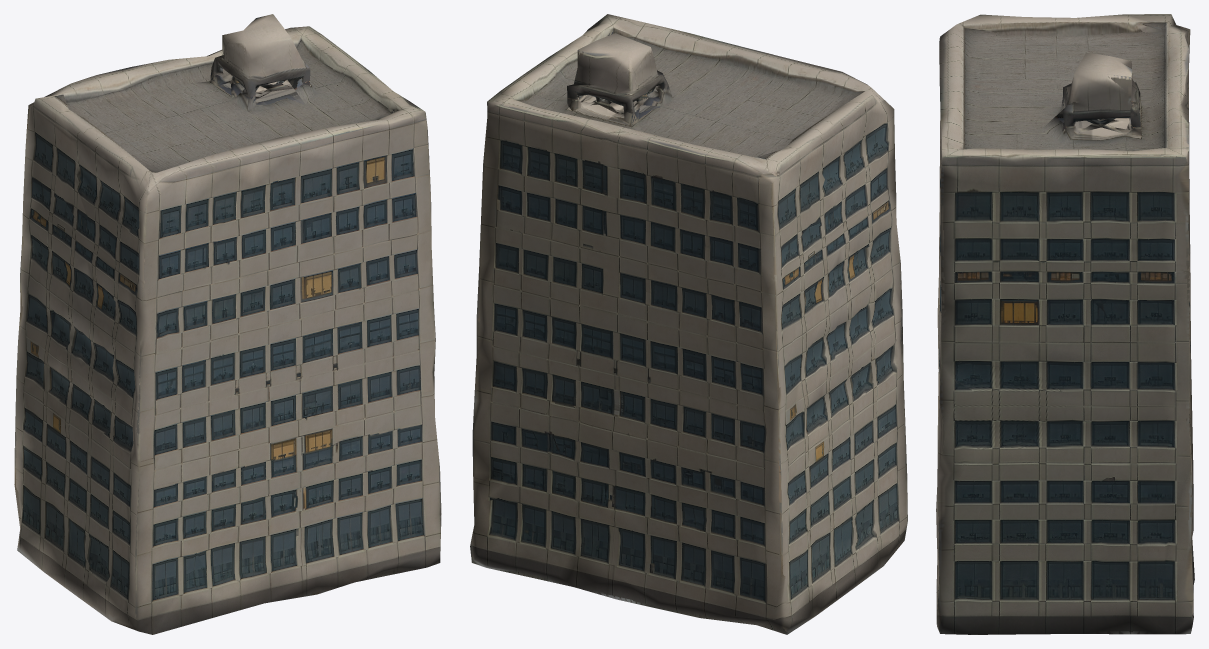
The model's file is KR_Office_02_Lod.glb.
3 views of the same model, side by side, from view 1: azimuth 30°, elevation 25°; view 2: azimuth 150°, elevation 25°; view 3: azimuth 270°, elevation 25° (orthographic). The views are drawn at different scales.
Parts seen in each view (by area): view 1: texture_mapping; view 2: texture_mapping; view 3: texture_mapping.
Boxes of the visible parts, x1,y1,x2,y2 form: texture_mapping: [14, 14, 441, 634]; texture_mapping: [470, 14, 907, 634]; texture_mapping: [936, 14, 1194, 634].
Size of the model in its own units: 0.6458 by 1.01 by 0.453.
1 material, 1 textured.
